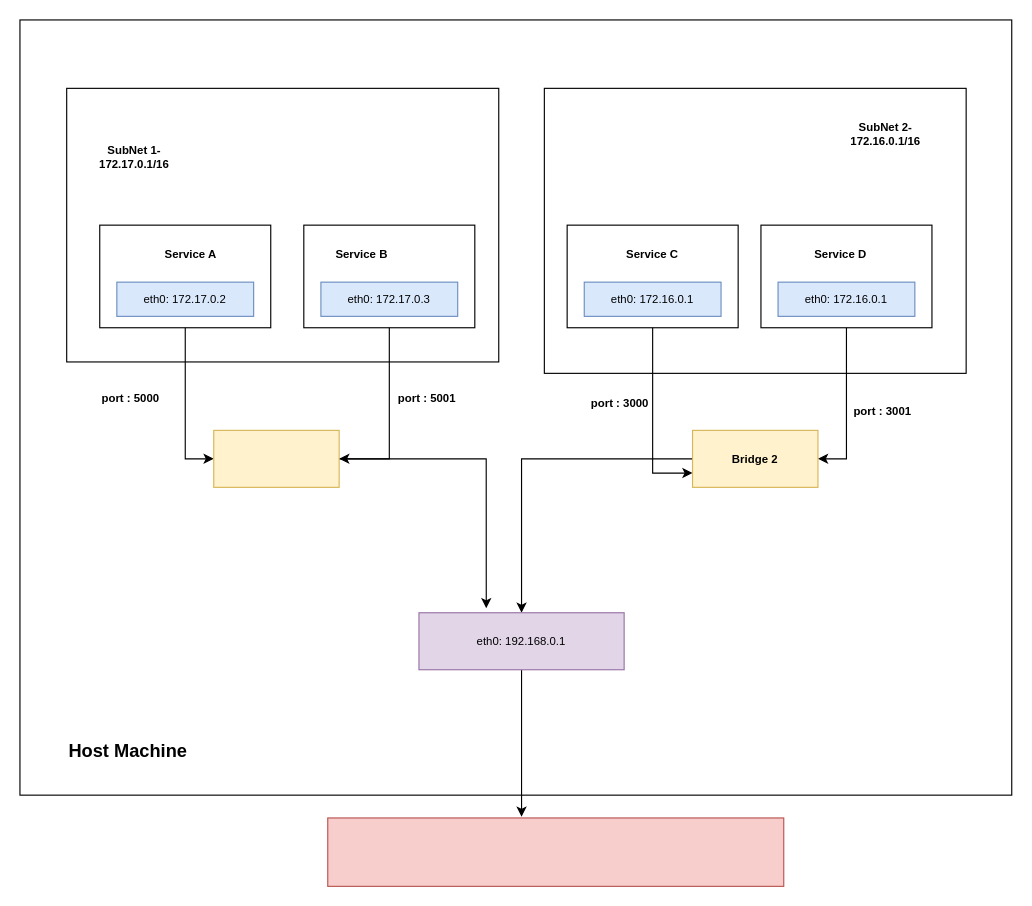
Image size: 1032x906. Some labels were removed from this diagram. Here are the shapes that lost their labels. From the top down, the centre of each, then its label:
(276,458): Bridge 1
(555,851): External Network
